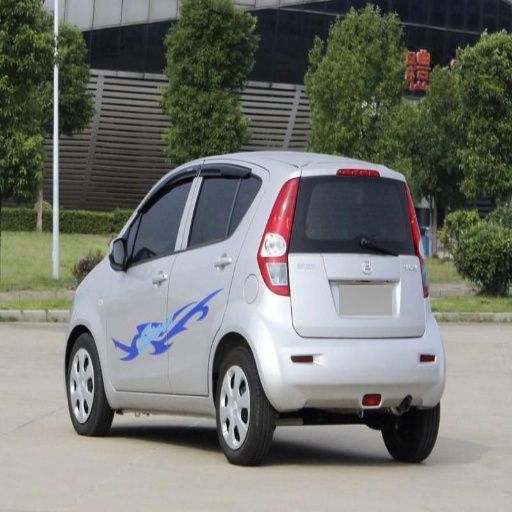back_bumper: (244, 290, 445, 413)
back_glass: (302, 178, 405, 238)
back_left_door: (167, 165, 248, 393)
tailgate: (339, 275, 417, 334)
trunk: (267, 226, 425, 338)
